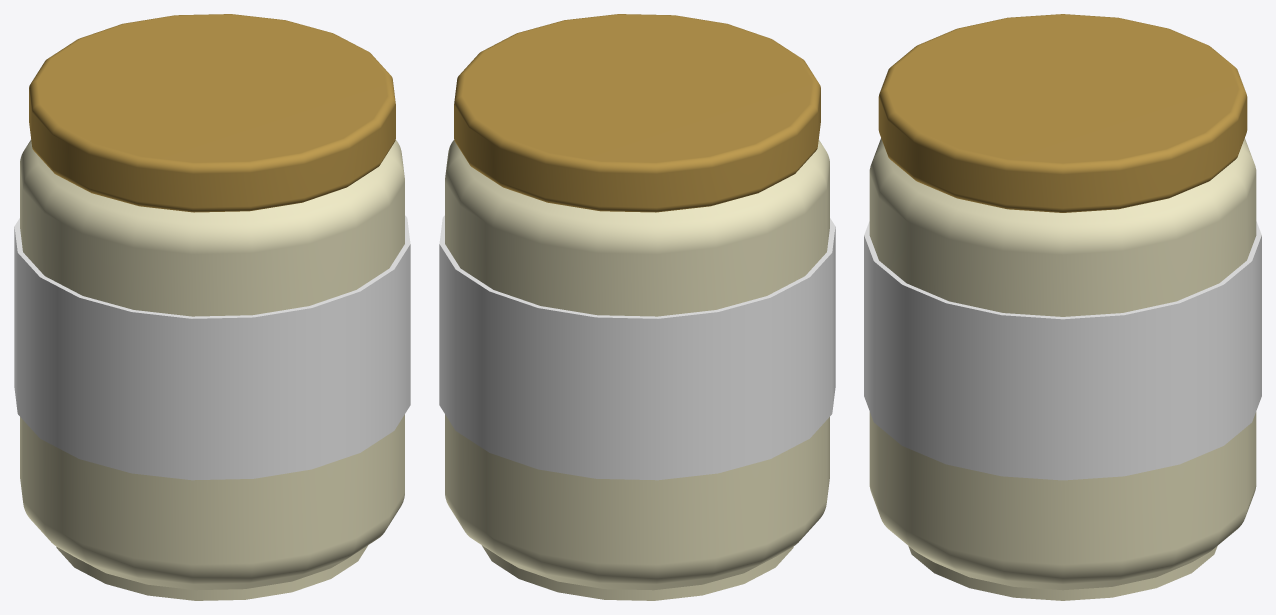
Rendered from KayaBottle.fbx.
3 renders of one model, left to right at view 1: azimuth 30°, elevation 25°; view 2: azimuth 150°, elevation 25°; view 3: azimuth 270°, elevation 25°, orthographic.
Visible parts, largest first — view 1: jar; view 2: jar; view 3: jar.
Boxes of the visible parts, left/top/right/bottom form: jar: left=14, top=14, right=410, bottom=600; jar: left=439, top=14, right=835, bottom=600; jar: left=864, top=14, right=1261, bottom=600.
Size of the model in its own units: 10.25 by 12.64 by 10.25.
4 materials, 4 textured.
